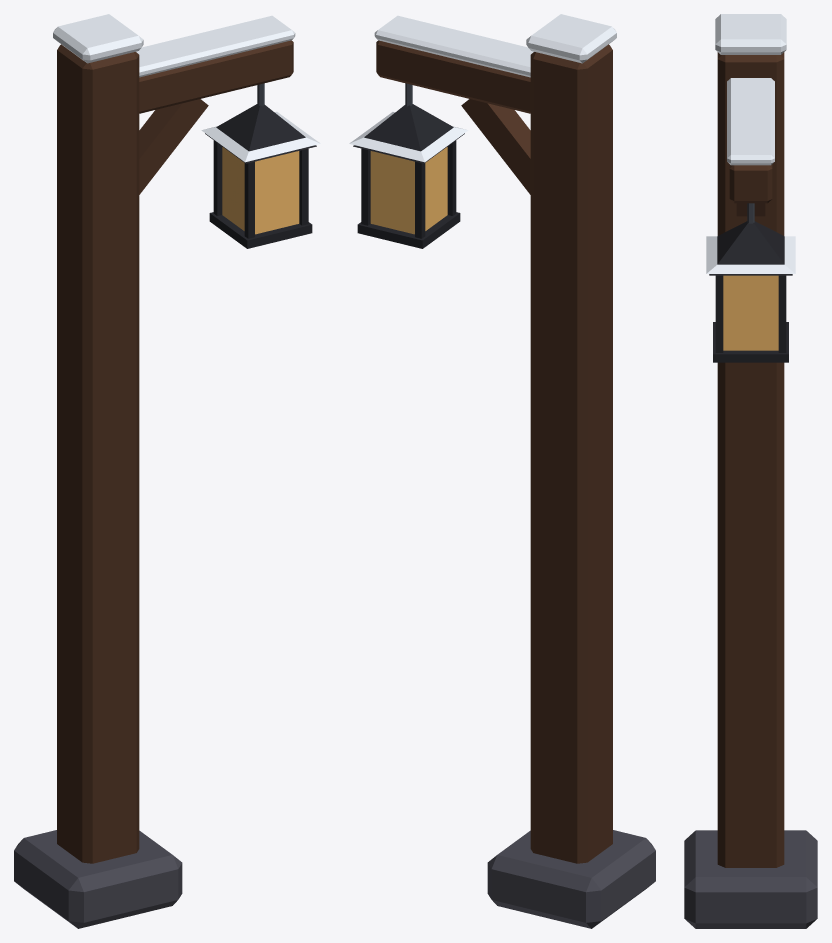
The model's file is lamp_post.glb.
The picture shows the model from 3 angles, left to right: view 1: azimuth 30°, elevation 25°; view 2: azimuth 150°, elevation 25°; view 3: azimuth 270°, elevation 25°; orthographic projection.
Parts seen in each view (by area): view 1: lamp_post_Main, lamp_post_Neon_window_glow; view 2: lamp_post_Main, lamp_post_Neon_window_glow; view 3: lamp_post_Main, lamp_post_Neon_window_glow.
Boxes of the visible parts, x1,y1,x2,y2 form: lamp_post_Main: [14, 14, 320, 928]; lamp_post_Neon_window_glow: [222, 147, 299, 234]; lamp_post_Main: [349, 14, 655, 928]; lamp_post_Neon_window_glow: [370, 147, 447, 234]; lamp_post_Main: [684, 14, 817, 928]; lamp_post_Neon_window_glow: [723, 275, 778, 350].
Bounding box in the file's own units: 3.17 × 10.17 × 1.4.
Materials: 1 (1 with a texture image).
